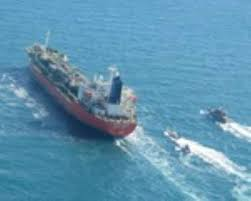tau_muctieu: (28, 39, 136, 136)
